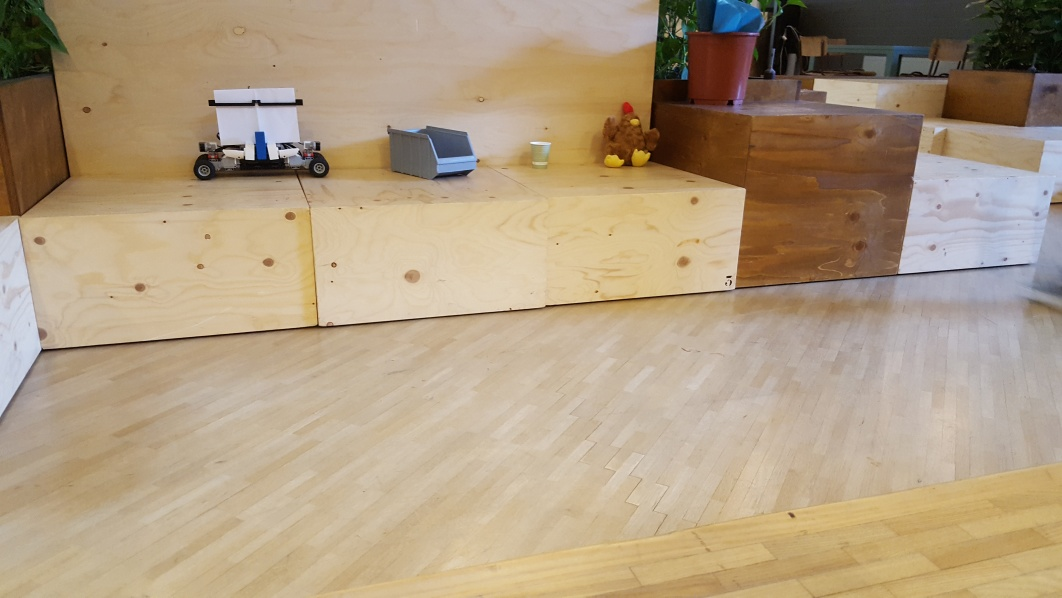car: (192, 87, 330, 179)
chicken: (599, 102, 660, 169)
cup: (528, 136, 554, 173)
tray: (382, 122, 478, 179)
